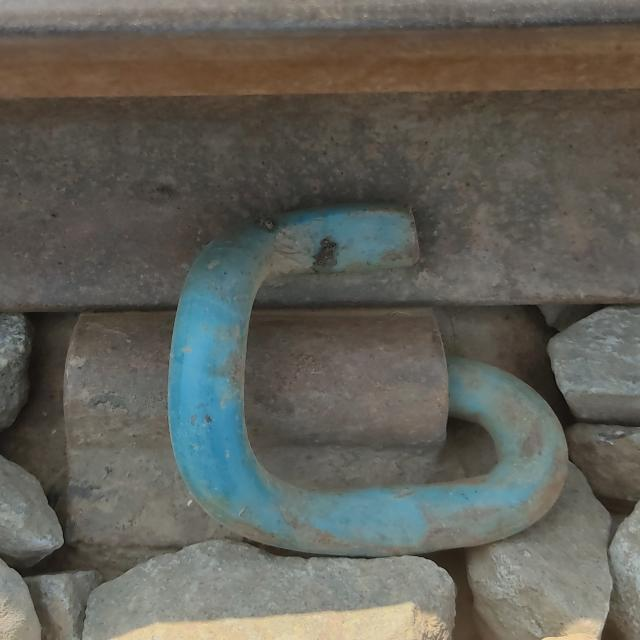track_bolt: (157, 195, 579, 563)
